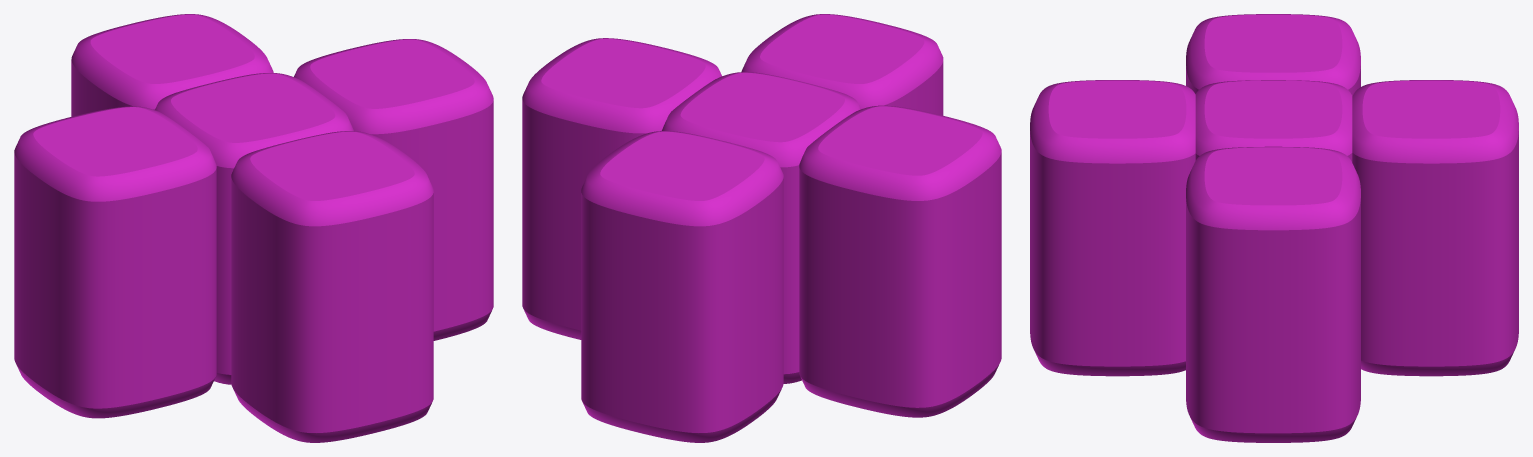
The model's file is PlusSign.fbx.
The picture shows the model from 3 angles, left to right: view 1: azimuth 30°, elevation 25°; view 2: azimuth 150°, elevation 25°; view 3: azimuth 270°, elevation 25°; orthographic projection.
Visible parts, largest first — view 1: PlusSign; view 2: PlusSign; view 3: PlusSign.
Boxes of the visible parts, x1=… form: PlusSign: x1=14, y1=14, x2=493, y2=442; PlusSign: x1=522, y1=14, x2=1001, y2=442; PlusSign: x1=1030, y1=14, x2=1518, y2=442.
Size of the model in its own units: 0.2619 by 0.14 by 0.2619.
